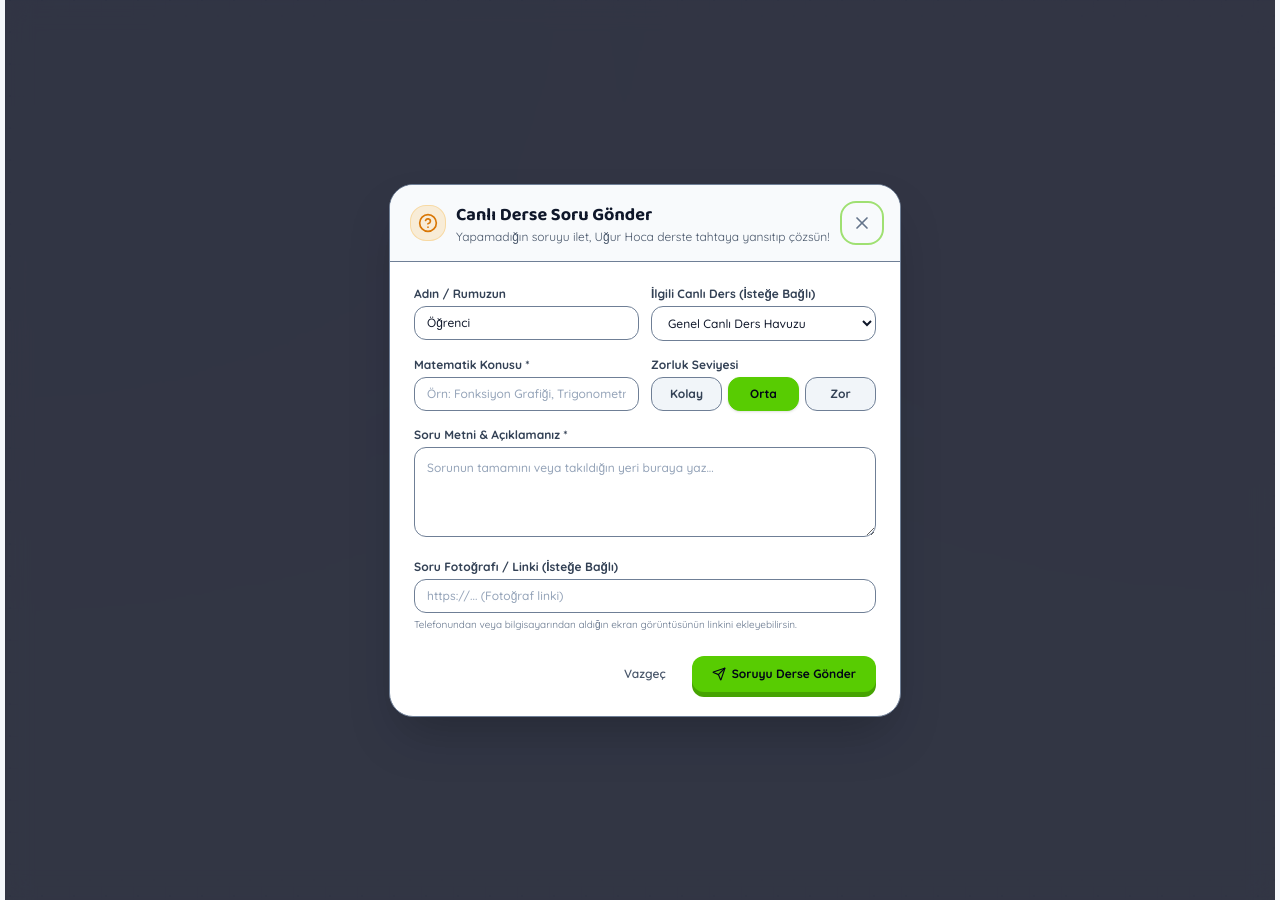
Test: Live Lesson Question Pool Components › submits a question via SubmitQuestionModal
Expected: the heading "Canlı Derse Soru Gönder" is shown, [456,200,652,228]
Type "Trigonometri" into the field with placeholder "Örn: Fonksiyon Grafiği, Trigonometri" at (526, 394), box [414,376,639,410]
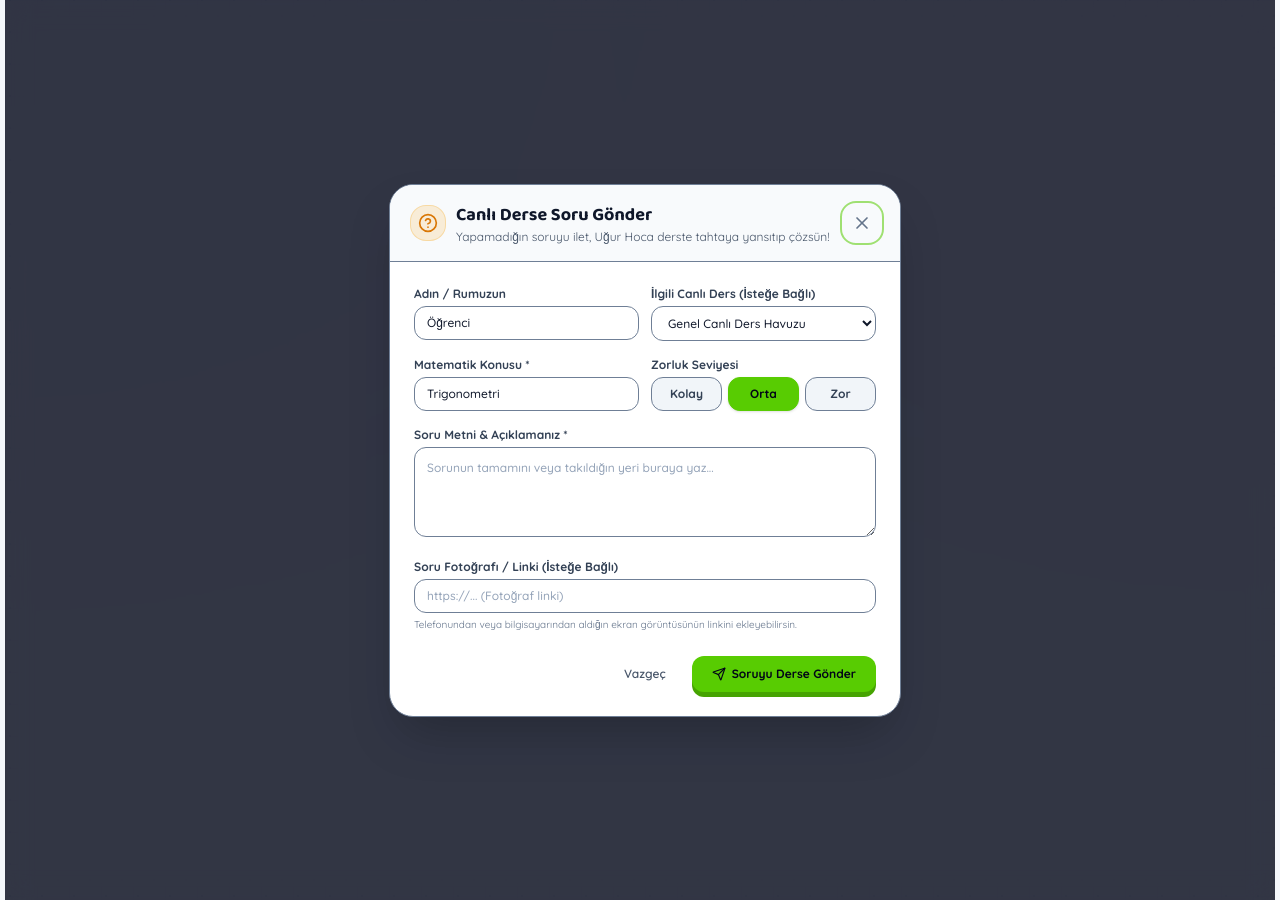
Type "sin^2(x) + cos^2(x) = 1 ispatı nedir?" into the text box with placeholder "Sorunun tamamını veya takıldığın yeri buraya yaz..." at (645, 492), box [414,446,876,536]
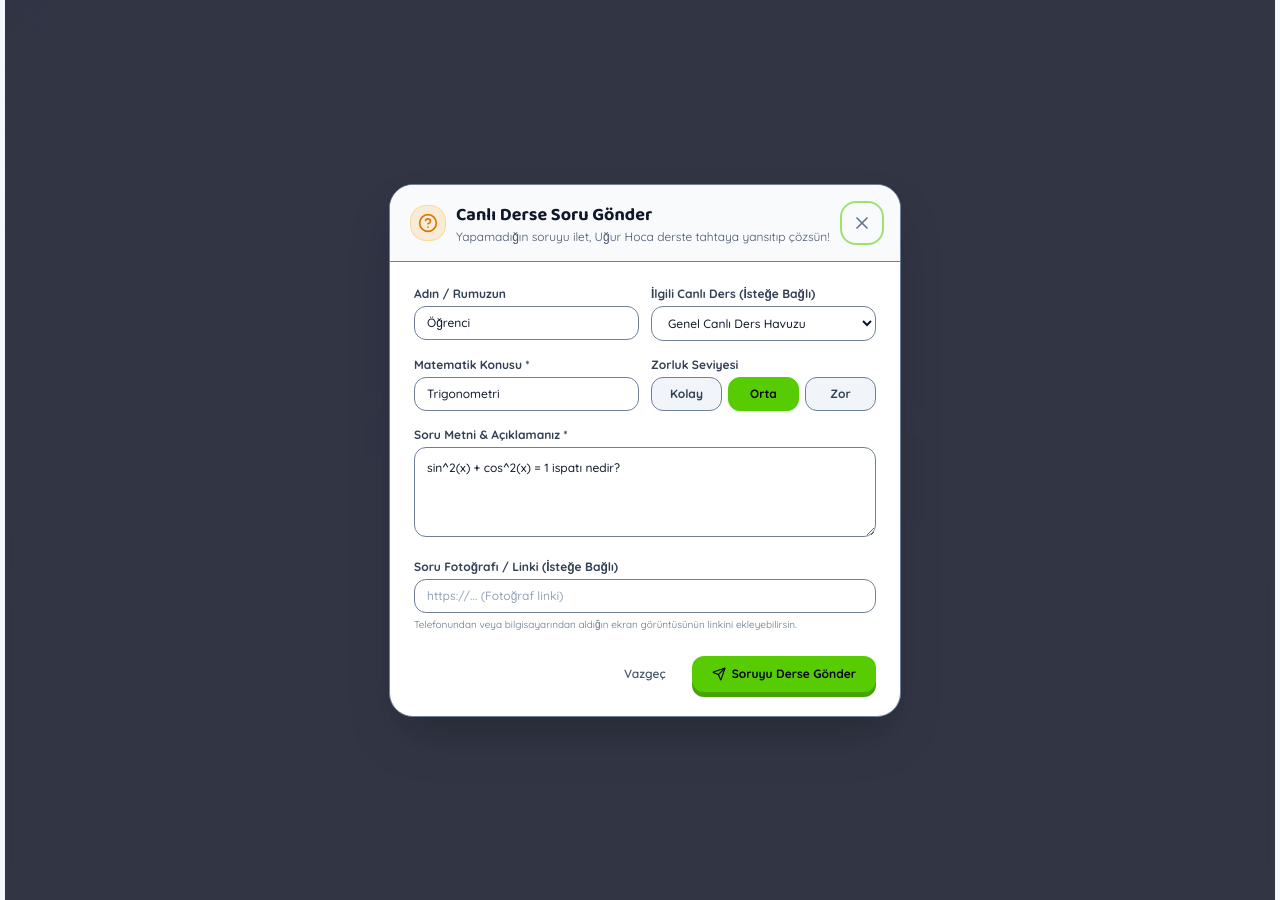
Click the button "Soruyu Derse Gönder" at (784, 674), box [692,656,876,692]
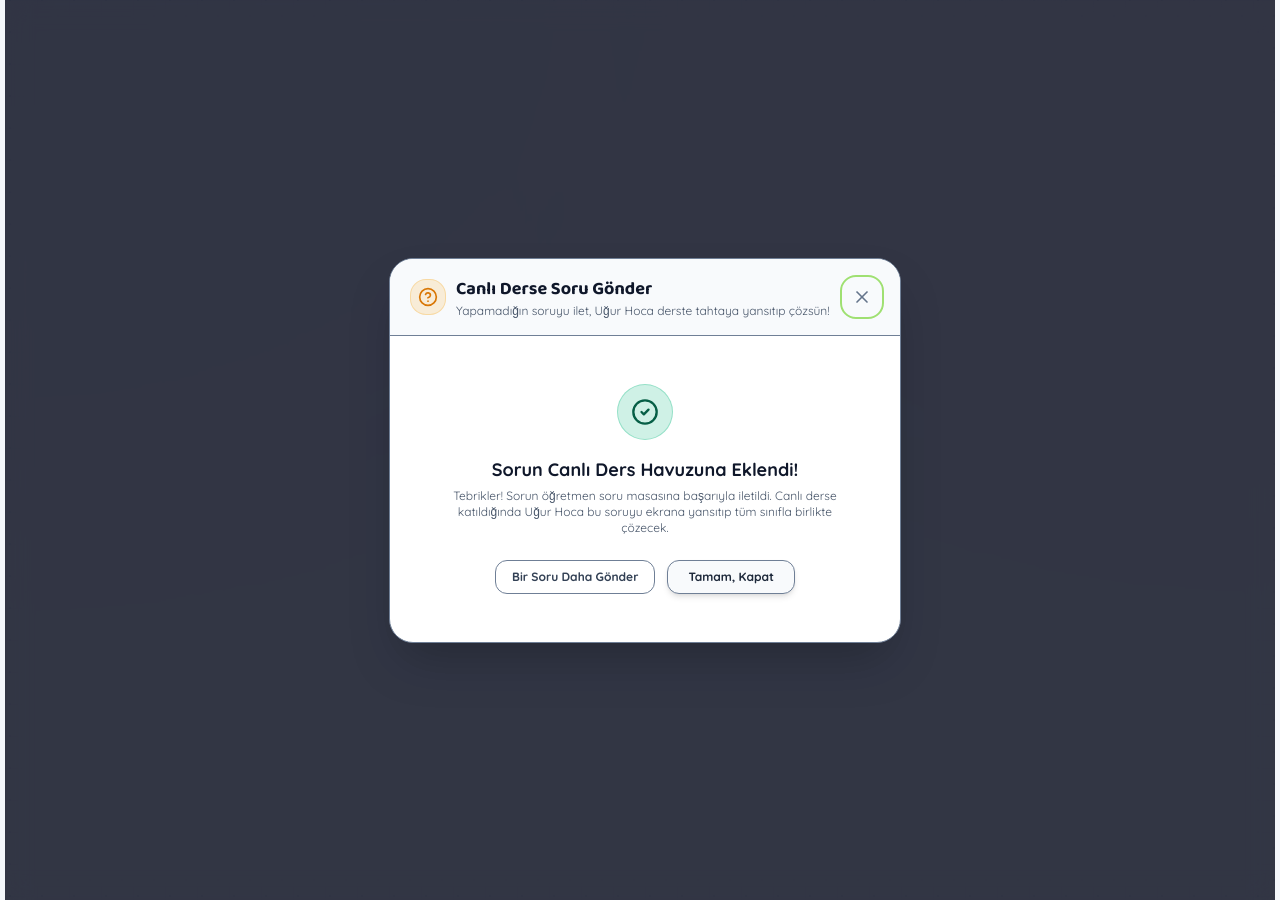
Expected: the heading "Sorun Canlı Ders Havuzuna Eklendi!" is shown, [492,458,798,480]
